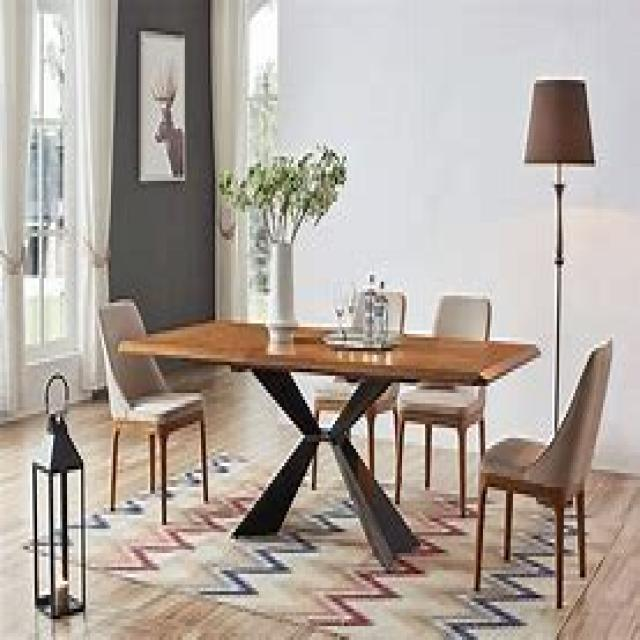chair: (474, 334, 612, 609), (95, 296, 208, 522), (393, 292, 492, 515), (309, 289, 406, 487)
table: (115, 316, 540, 567)
